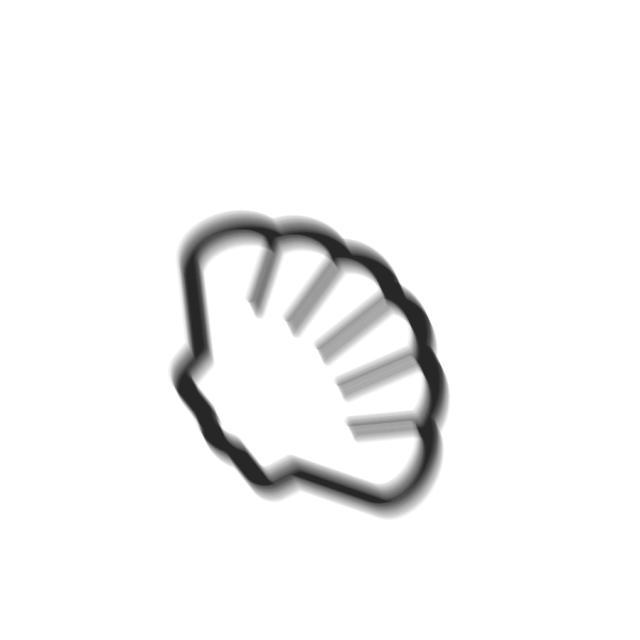shell: (160, 203, 454, 526)
